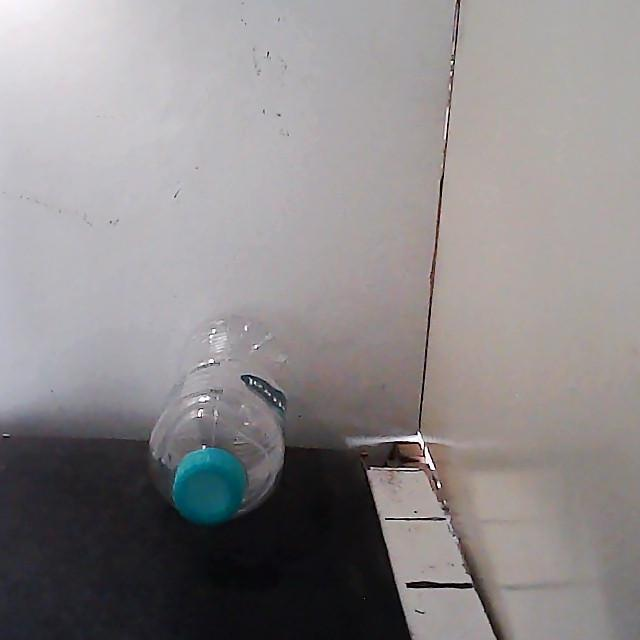plastico: (149, 317, 286, 525)
